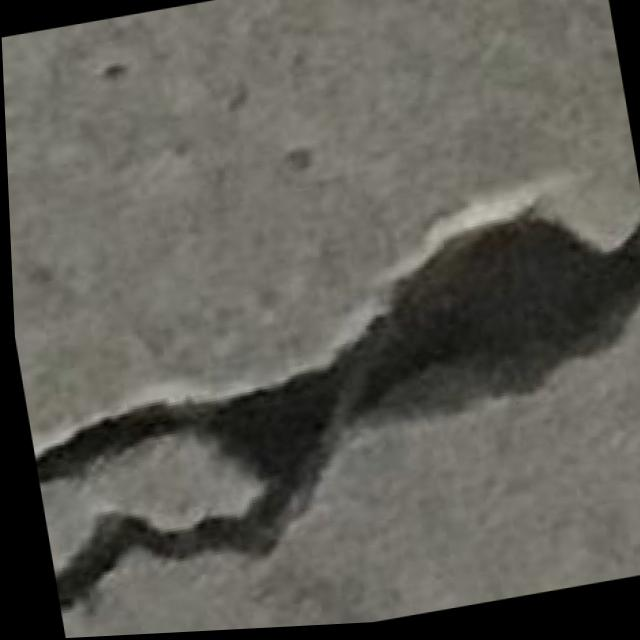Crack: (7, 167, 640, 640)
